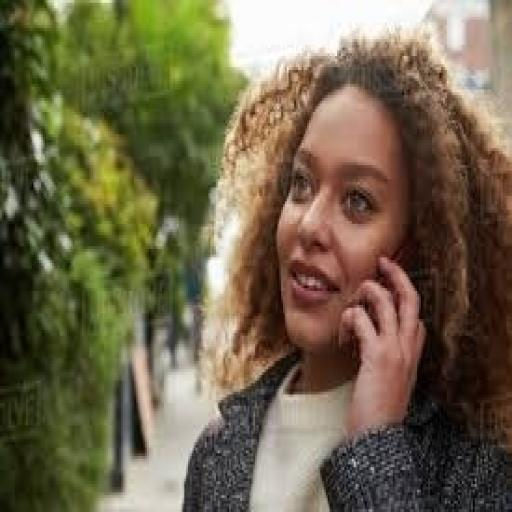calling: (179, 28, 510, 509)
